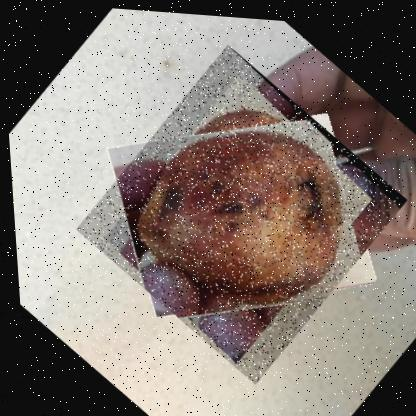guava_rotten: (60, 31, 415, 392)
